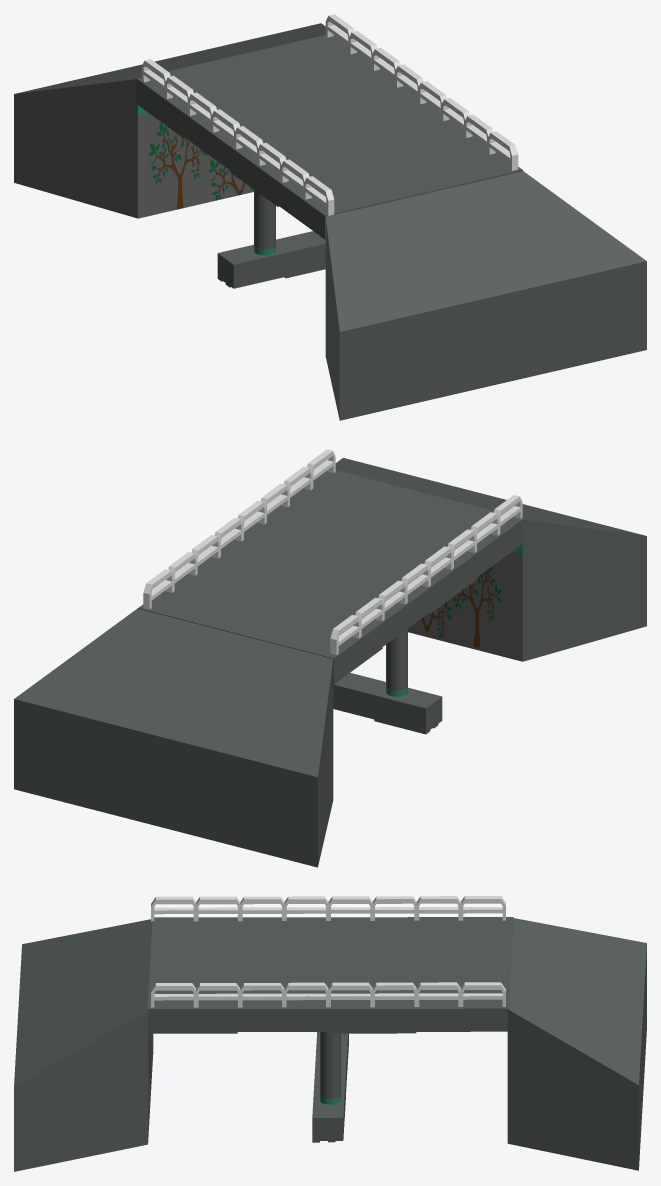
File: bridge 1.fbx
3 renders of one model, top to bottom at view 1: azimuth 30°, elevation 25°; view 2: azimuth 150°, elevation 25°; view 3: azimuth 270°, elevation 25°, orthographic. The views are drawn at different scales.
Parts seen in each view (by area): view 1: Cube.004, Cube, Cube.003, Cube.005, Cube.001, Cylinder.002; view 2: Cube.004, Cube, Cube.005, Cube.003, Cube.001, Cylinder.002; view 3: Cube.004, Cube, Cube.003, Cube.005, Cube.001, Cylinder.003.
Boxes of the visible parts, x1,y1,x2,y2 form: Cube.004: (14,23,646,420); Cube: (136,35,522,239); Cube.003: (325,14,518,170); Cube.005: (142,59,334,215); Cube.001: (217,231,325,288); Cylinder.002: (254,190,275,255); Cube.004: (14,458,646,867); Cube: (138,470,523,684); Cube.005: (330,495,522,654); Cube.003: (143,449,335,609); Cube.001: (333,672,442,734); Cylinder.002: (386,628,407,696); Cube.004: (14,918,646,1171); Cube: (147,917,513,1033); Cube.003: (151,982,505,1007); Cube.005: (151,896,505,921); Cube.001: (312,1032,348,1142); Cylinder.003: (320,1032,340,1104).
Size of the model in its own units: 1709 by 886 by 3201.
4 materials, 1 textured.
